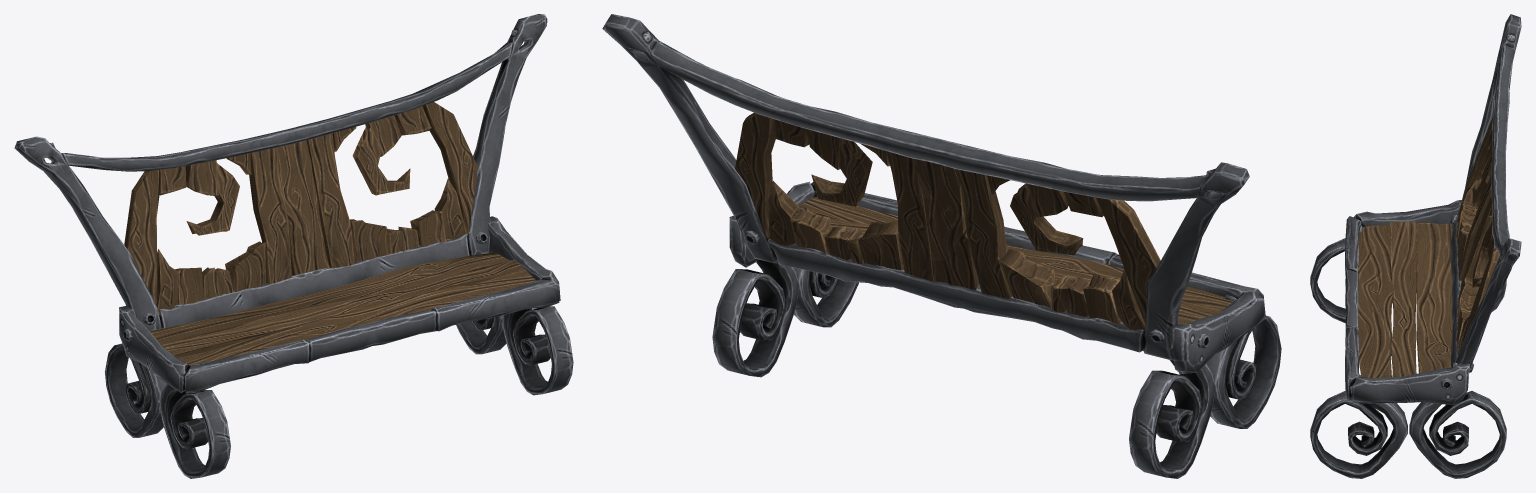
The model's file is bench.glb.
The picture shows the model from 3 angles, left to right: view 1: azimuth 30°, elevation 25°; view 2: azimuth 150°, elevation 25°; view 3: azimuth 270°, elevation 25°; orthographic projection. The views are drawn at different scales.
Parts seen in each view (by area): view 1: node_id46; view 2: node_id46; view 3: node_id46.
Part boxes in pixels (bbox=[...]): node_id46: bbox=[14, 14, 573, 478]; node_id46: bbox=[602, 14, 1281, 478]; node_id46: bbox=[1310, 14, 1521, 478].
Size of the model in its own units: 0.512 by 0.2729 by 0.194.
Materials: 1 (1 with a texture image).
